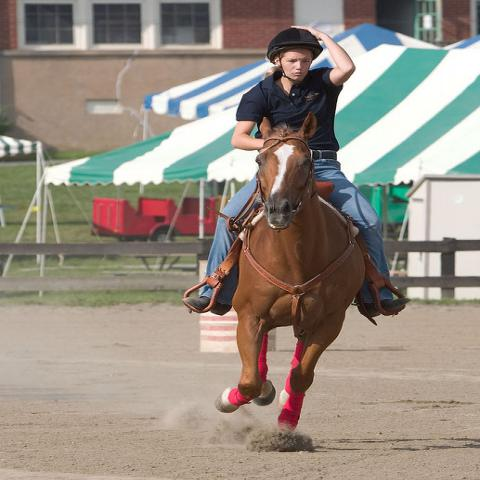truck: (91, 197, 223, 242)
